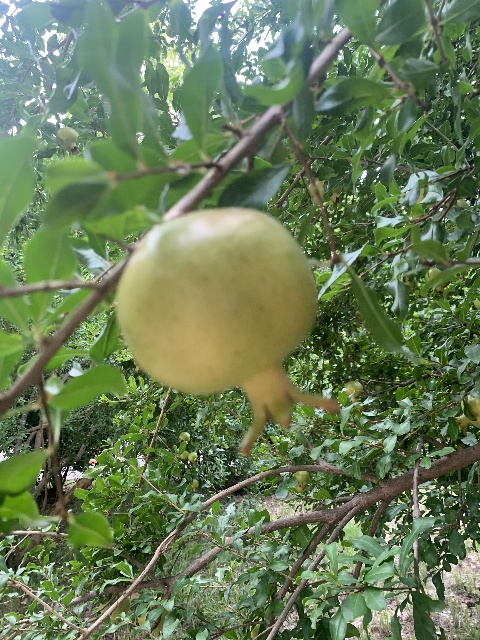mid-growth: (116, 207, 338, 456), (452, 394, 480, 436), (420, 262, 451, 296), (308, 179, 339, 204), (56, 126, 78, 153), (343, 380, 362, 402), (295, 470, 310, 487), (187, 451, 200, 464), (178, 431, 190, 443), (189, 479, 198, 492), (177, 450, 188, 460)
